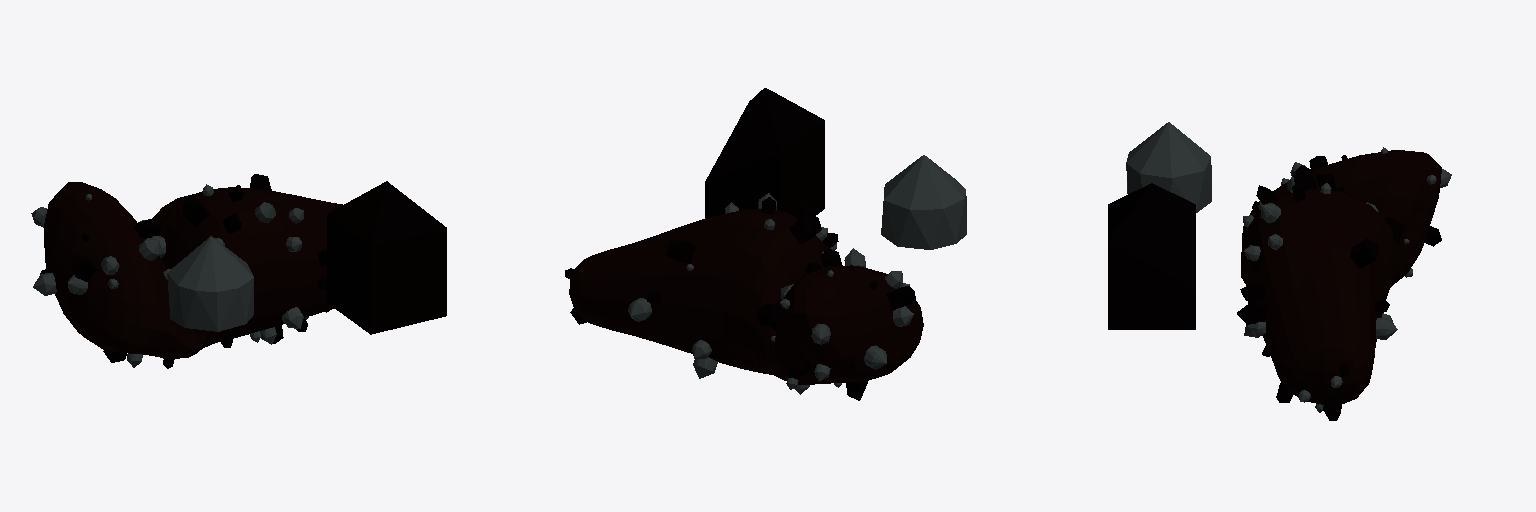
File: iron1.obj
3 renders of one model, left to right at view 1: azimuth 30°, elevation 25°; view 2: azimuth 150°, elevation 25°; view 3: azimuth 270°, elevation 25°, orthographic.
Parts seen in each view (by area): view 1: emitter_Cube, particle_Cube.001, p2_Cylinder; view 2: emitter_Cube, particle_Cube.001, p2_Cylinder; view 3: emitter_Cube, particle_Cube.001, p2_Cylinder.
Boxes of the visible parts, box(x1,y1,x2,y2) form: emitter_Cube: box(44, 182, 342, 358); particle_Cube.001: box(40, 174, 446, 368); p2_Cylinder: box(31, 184, 308, 367); emitter_Cube: box(569, 209, 923, 384); particle_Cube.001: box(565, 88, 915, 400); p2_Cylinder: box(628, 155, 966, 394); emitter_Cube: box(1241, 150, 1441, 404); particle_Cube.001: box(1108, 155, 1441, 420); p2_Cylinder: box(1126, 122, 1451, 412).
Size of the model in its own units: 4.29 by 2.51 by 3.73.